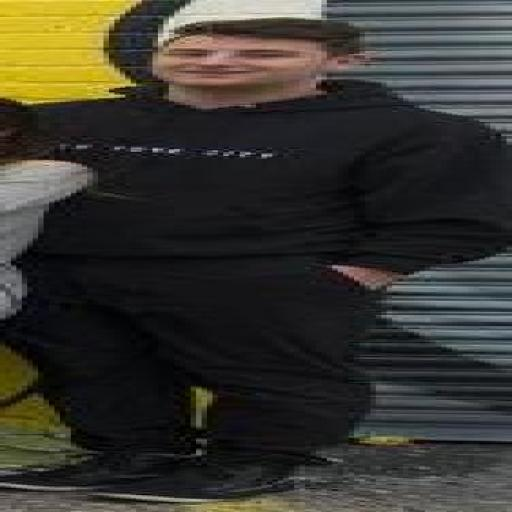person: (0, 19, 511, 502), (0, 98, 92, 319)
